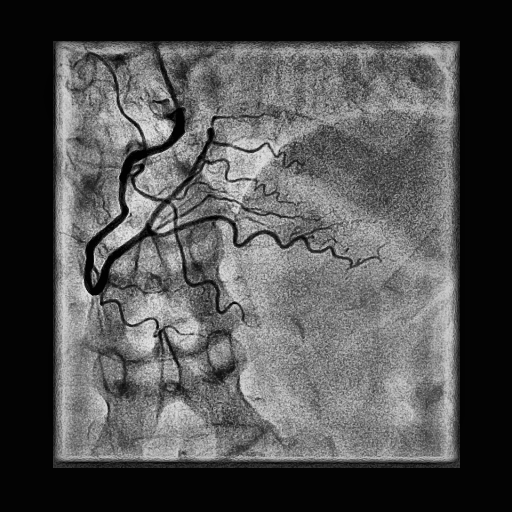pborca: (145, 128, 215, 229)
pda: (147, 215, 382, 268)
rca: (84, 126, 185, 295)
